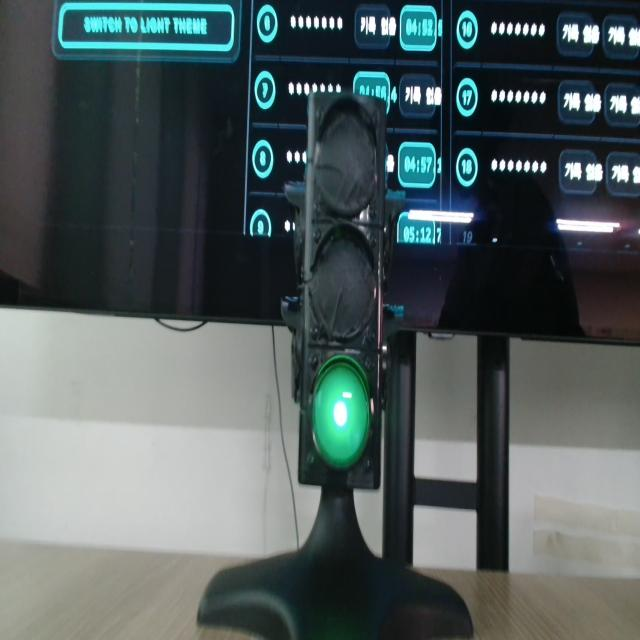green_light: (313, 357, 370, 469)
